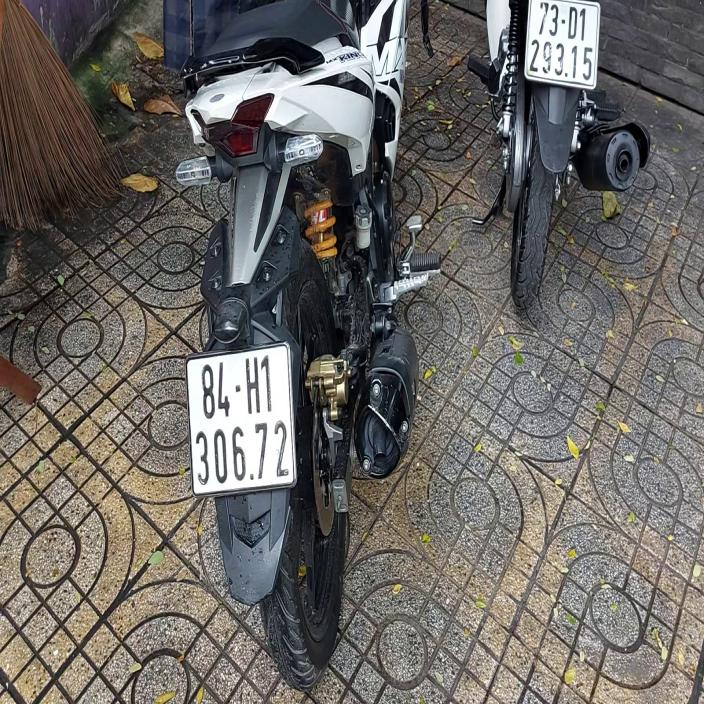numplate: (174, 330, 312, 496), (523, 0, 604, 89)
